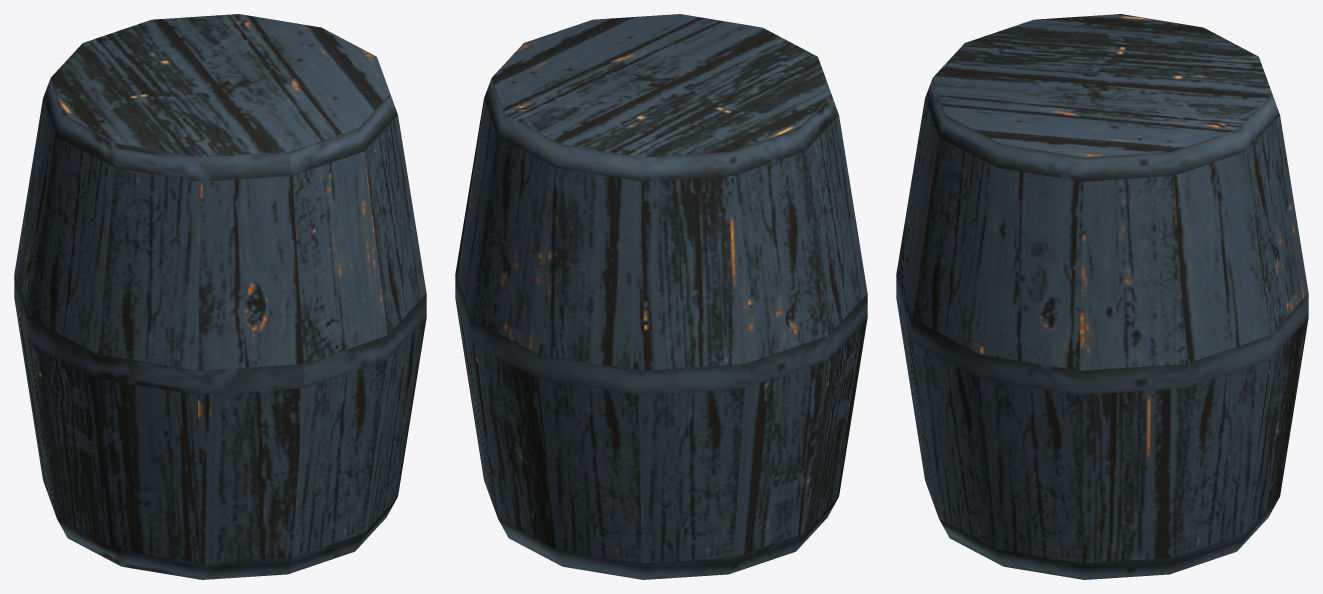
The model's file is barrelMesh.fbx.
The picture shows the model from 3 angles, left to right: view 1: azimuth 30°, elevation 25°; view 2: azimuth 150°, elevation 25°; view 3: azimuth 270°, elevation 25°; orthographic projection.
Parts seen in each view (by area): view 1: barrelMesh; view 2: barrelMesh; view 3: barrelMesh.
Part boxes in pixels (x1,y1,x2,y2): barrelMesh: (14, 14, 426, 579); barrelMesh: (455, 14, 867, 579); barrelMesh: (896, 14, 1308, 579).
Size of the model in its own units: 0.9496 by 1.08 by 0.9496.
